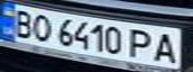0: (103, 24, 127, 56)
1: (87, 21, 106, 53)
4: (69, 19, 90, 51)
6: (51, 16, 75, 47)
A: (148, 30, 184, 64)
B: (6, 7, 39, 38)
O: (27, 11, 57, 43)
P: (124, 26, 157, 60)
